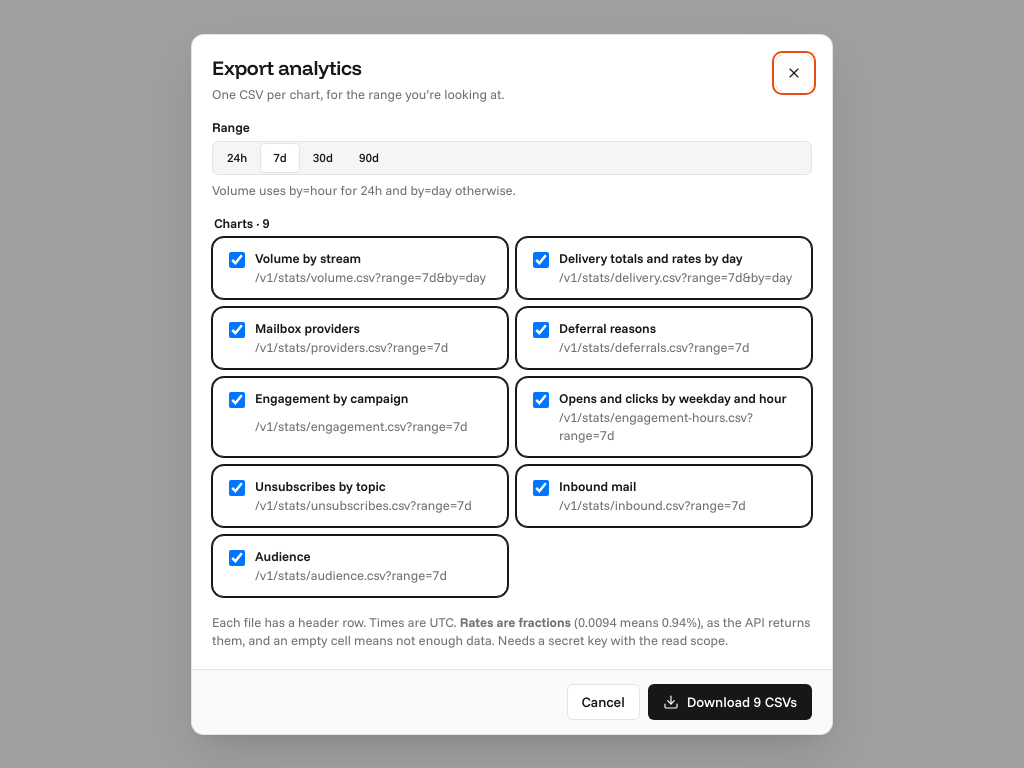
Test: ExportSheet › rewrites the paths when the range changes
Click the button "24h": point(237, 158) [215, 144, 259, 172]
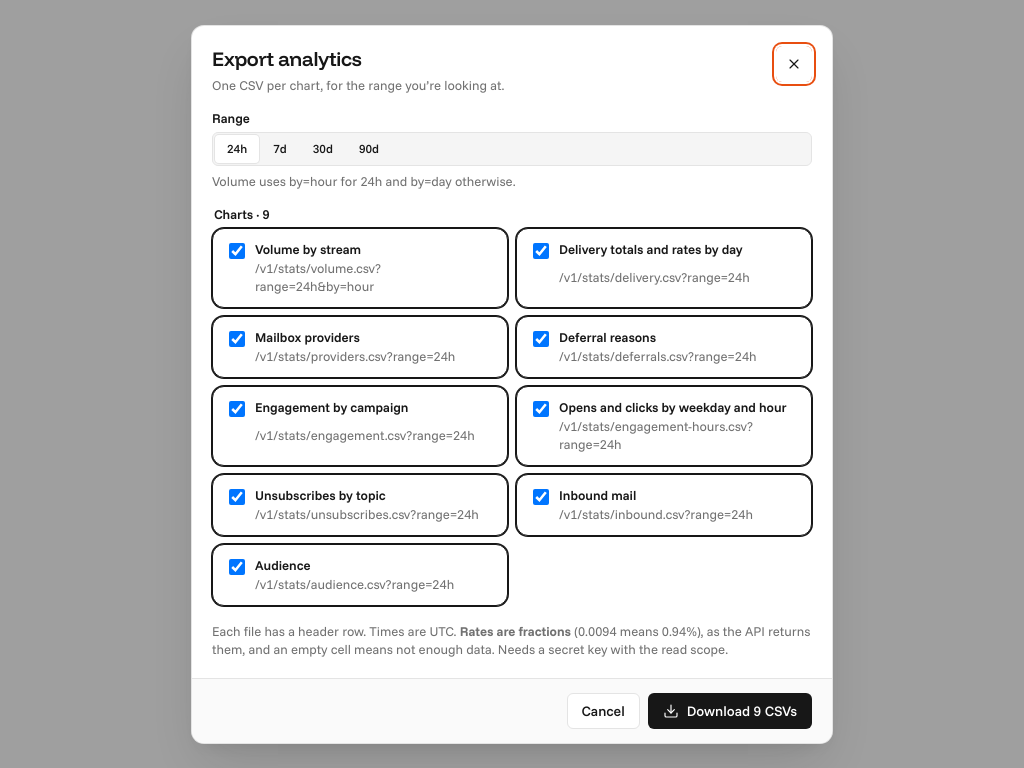
Now the text "/v1/stats/volume.csv?range=24h&by=hour" is shown, box [255, 260, 381, 294]
Click the button "90d": point(369, 148) [347, 134, 391, 162]
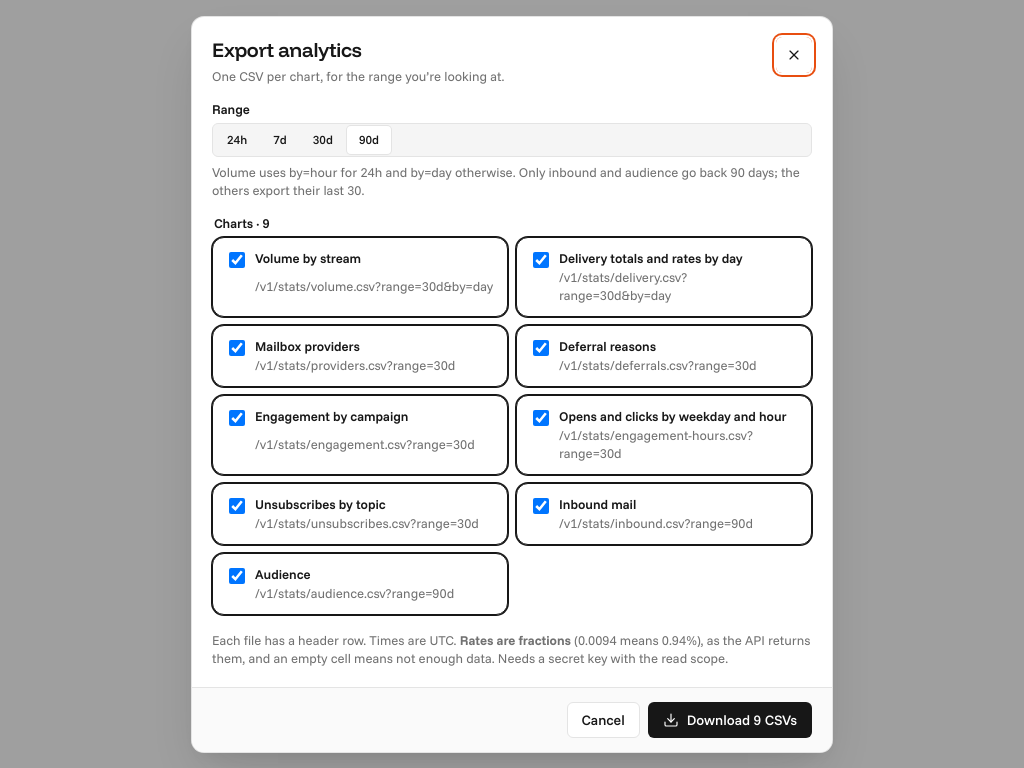
Now the text "/v1/stats/inbound.csv?range=90d" is shown, box [559, 514, 753, 530]
Now the text "/v1/stats/providers.csv?range=30d" is shown, box [255, 356, 455, 372]
Now the text "Only inbound and audience go back 90 days" is shown, box [212, 164, 800, 198]
